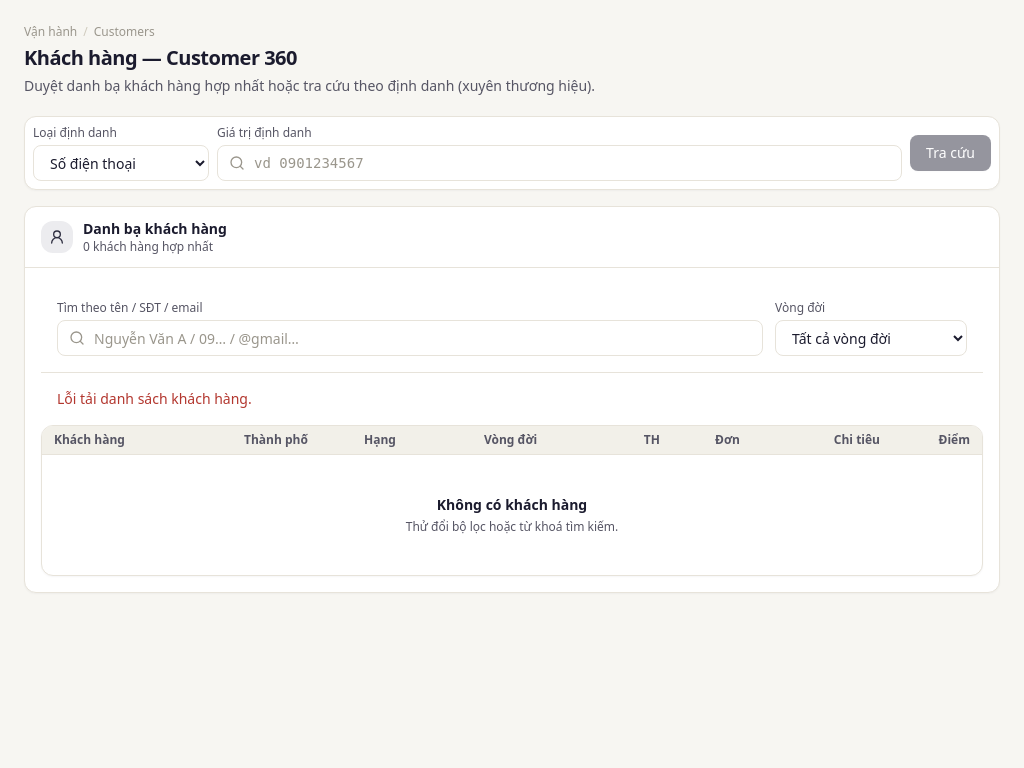
Test: CustomersScreen (Customer 360 lookup) › không tìm thấy -> hiển thị trạng thái empty, không crash
The image size is (1024, 768).
Type "0900000000" into the field named "giá trị".
click(560, 163); type("0900000000")  # box [217, 145, 902, 181]
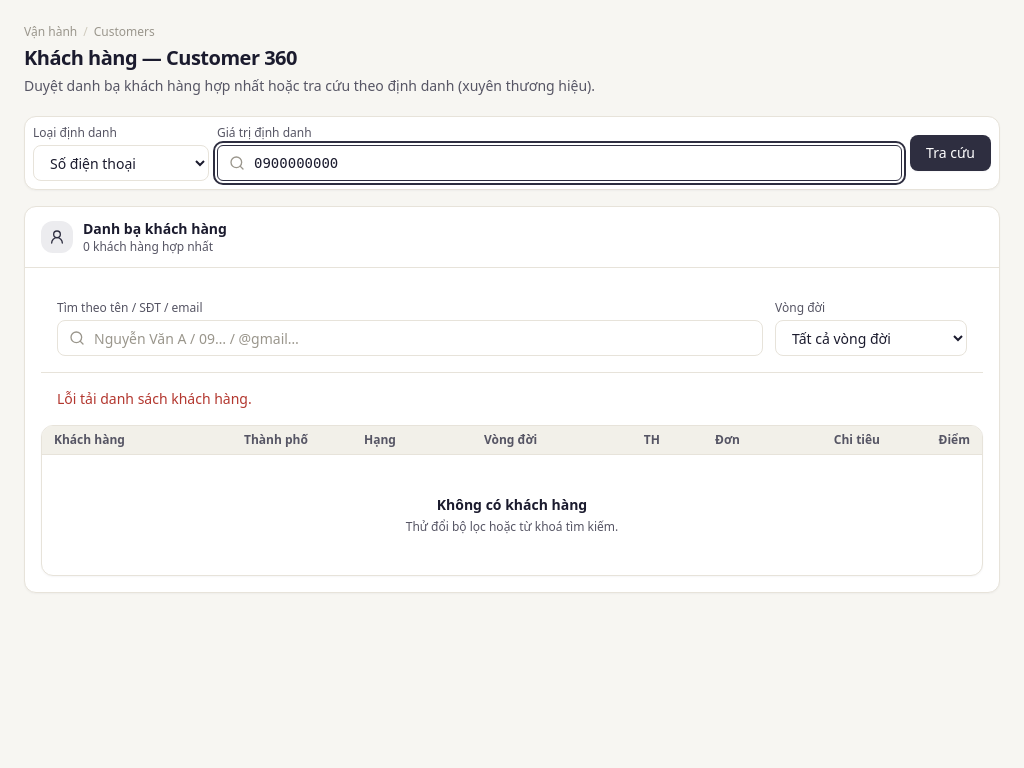
Click the button "Tra cứu".
click(951, 152)  # box [910, 134, 991, 170]
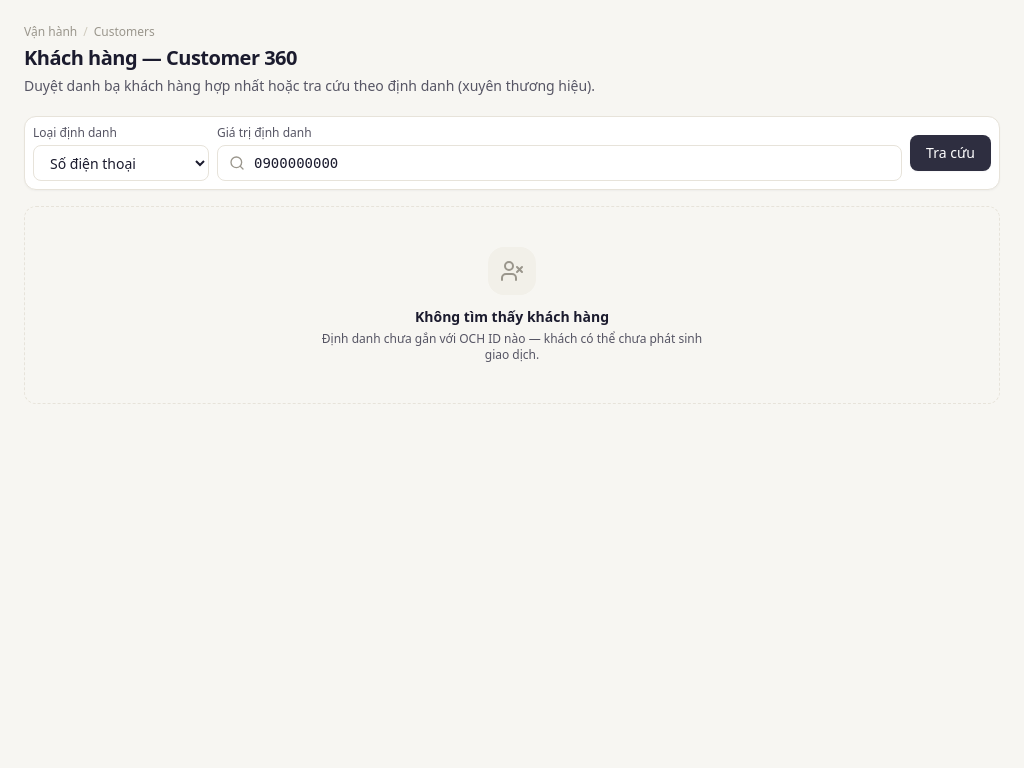
Result: the text "Không tìm thấy khách hàng" is shown at [415, 307, 609, 327]
